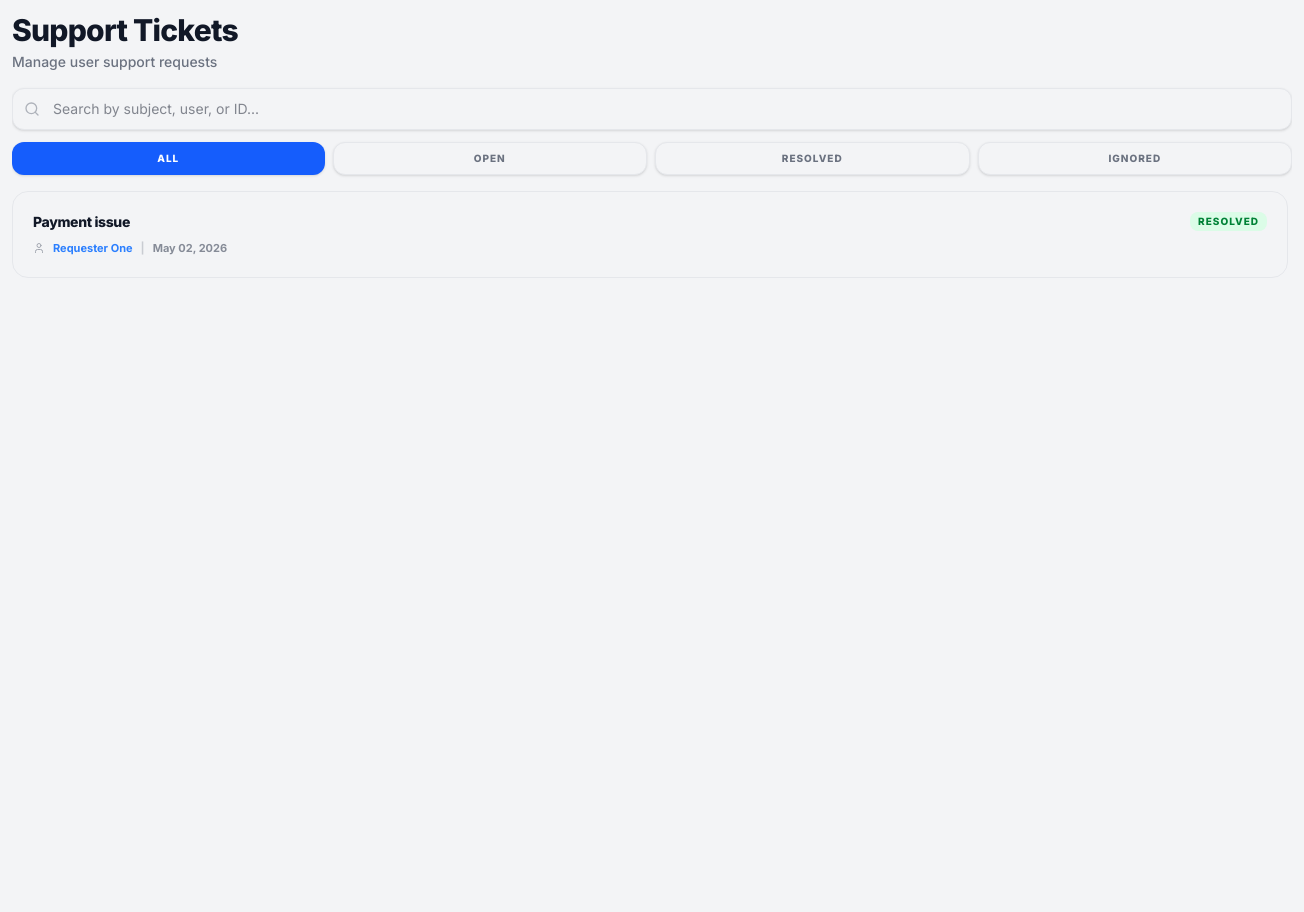
Test: SupportPage › keeps resolved tickets read-only until reopened
This screenshot has width=1304, height=912.
Click the heading "Payment issue" at (82, 222), box [33,212,130,232]
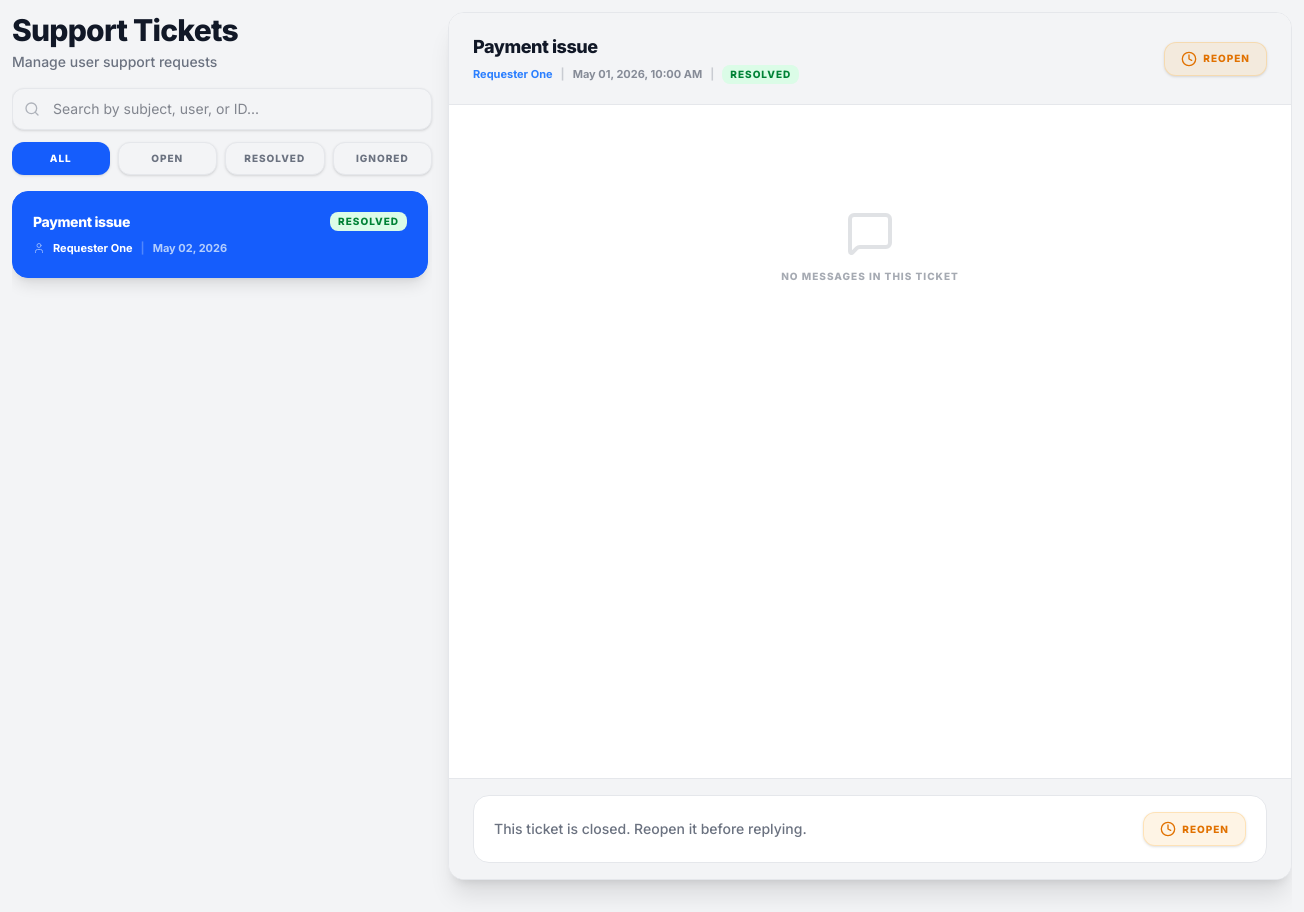
Check: the text "This ticket is closed. Reopen it before replying." is shown, box [494,819,807,839]
Check: the button "Reopen" in the row of "May 01, 2026, 10:00 AM" is shown, box [1164,42,1267,76]
